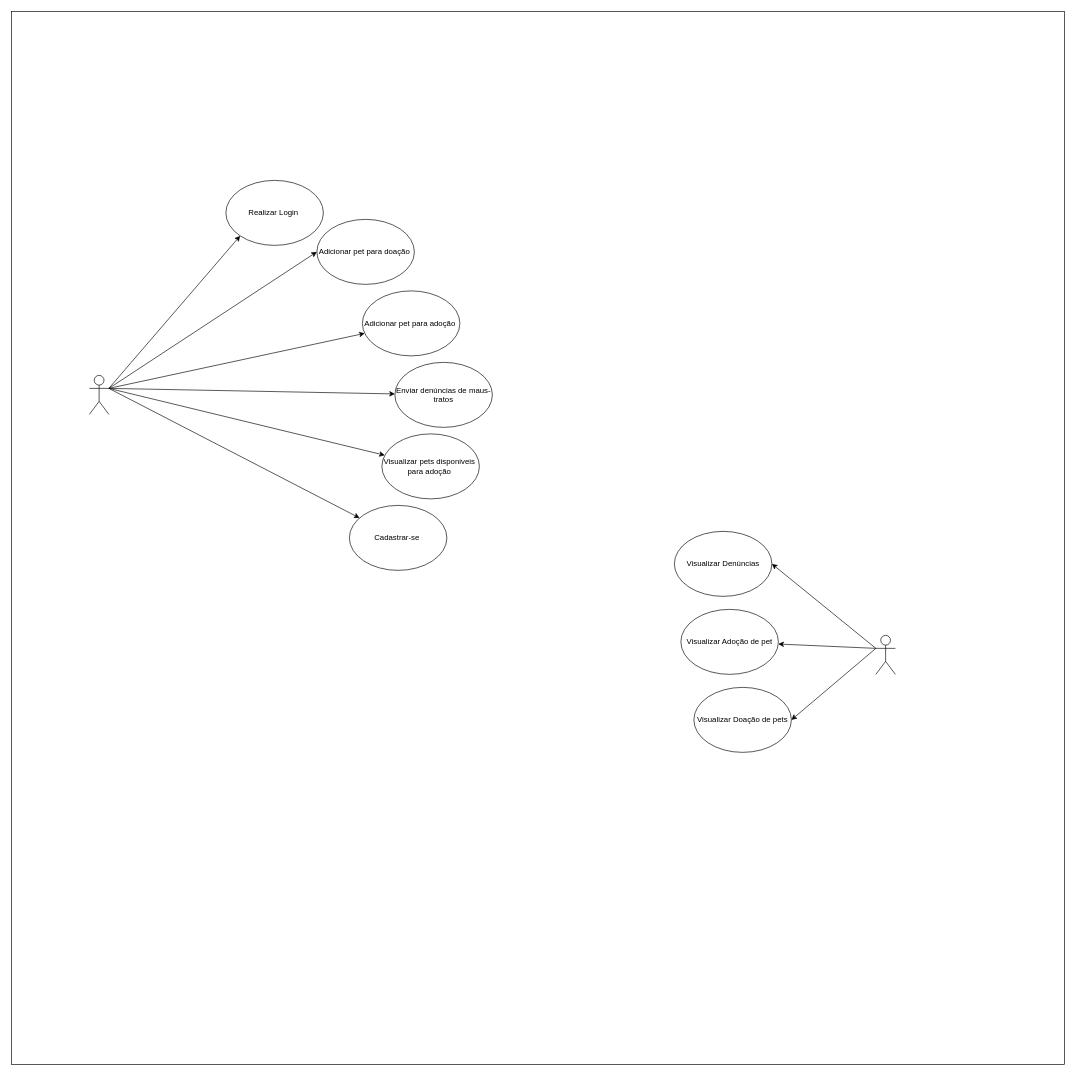
Image size: 1076x1076. Some labels were removed from this diagram. The centre of each missing label's shape, as x and y in pixels:
Cliente: point (99, 394)
União de Proteção aos Animais: point (885, 654)
